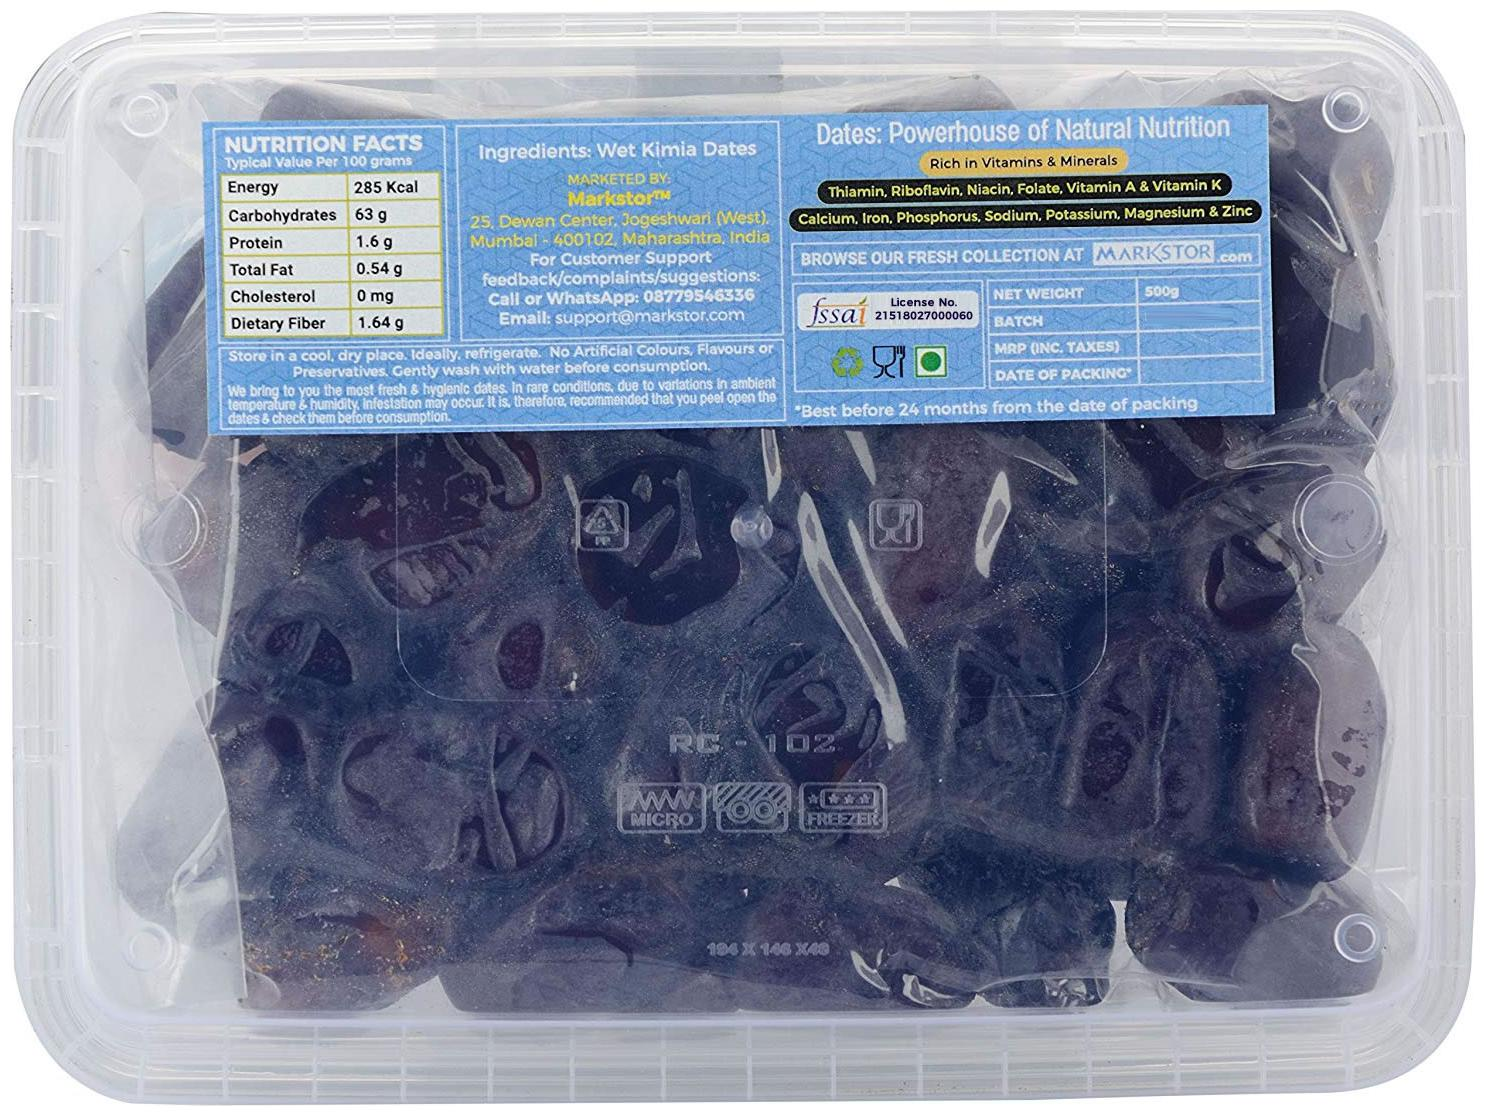fssai: (806, 295, 870, 327)
